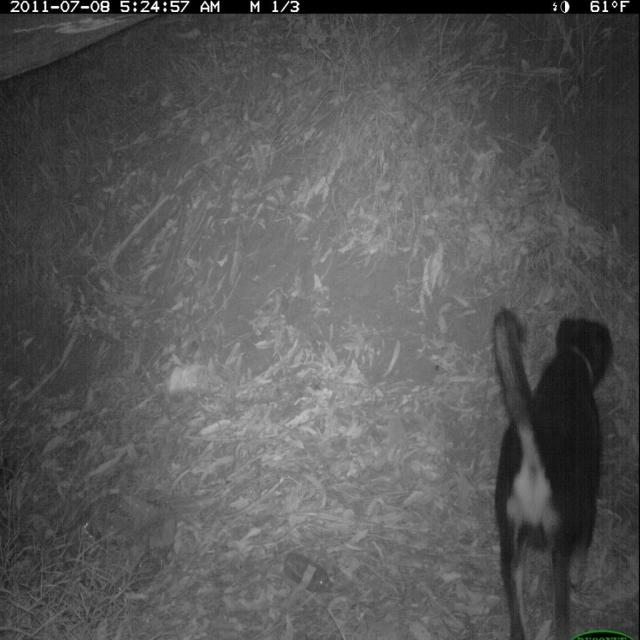dog: (483, 297, 616, 638)
